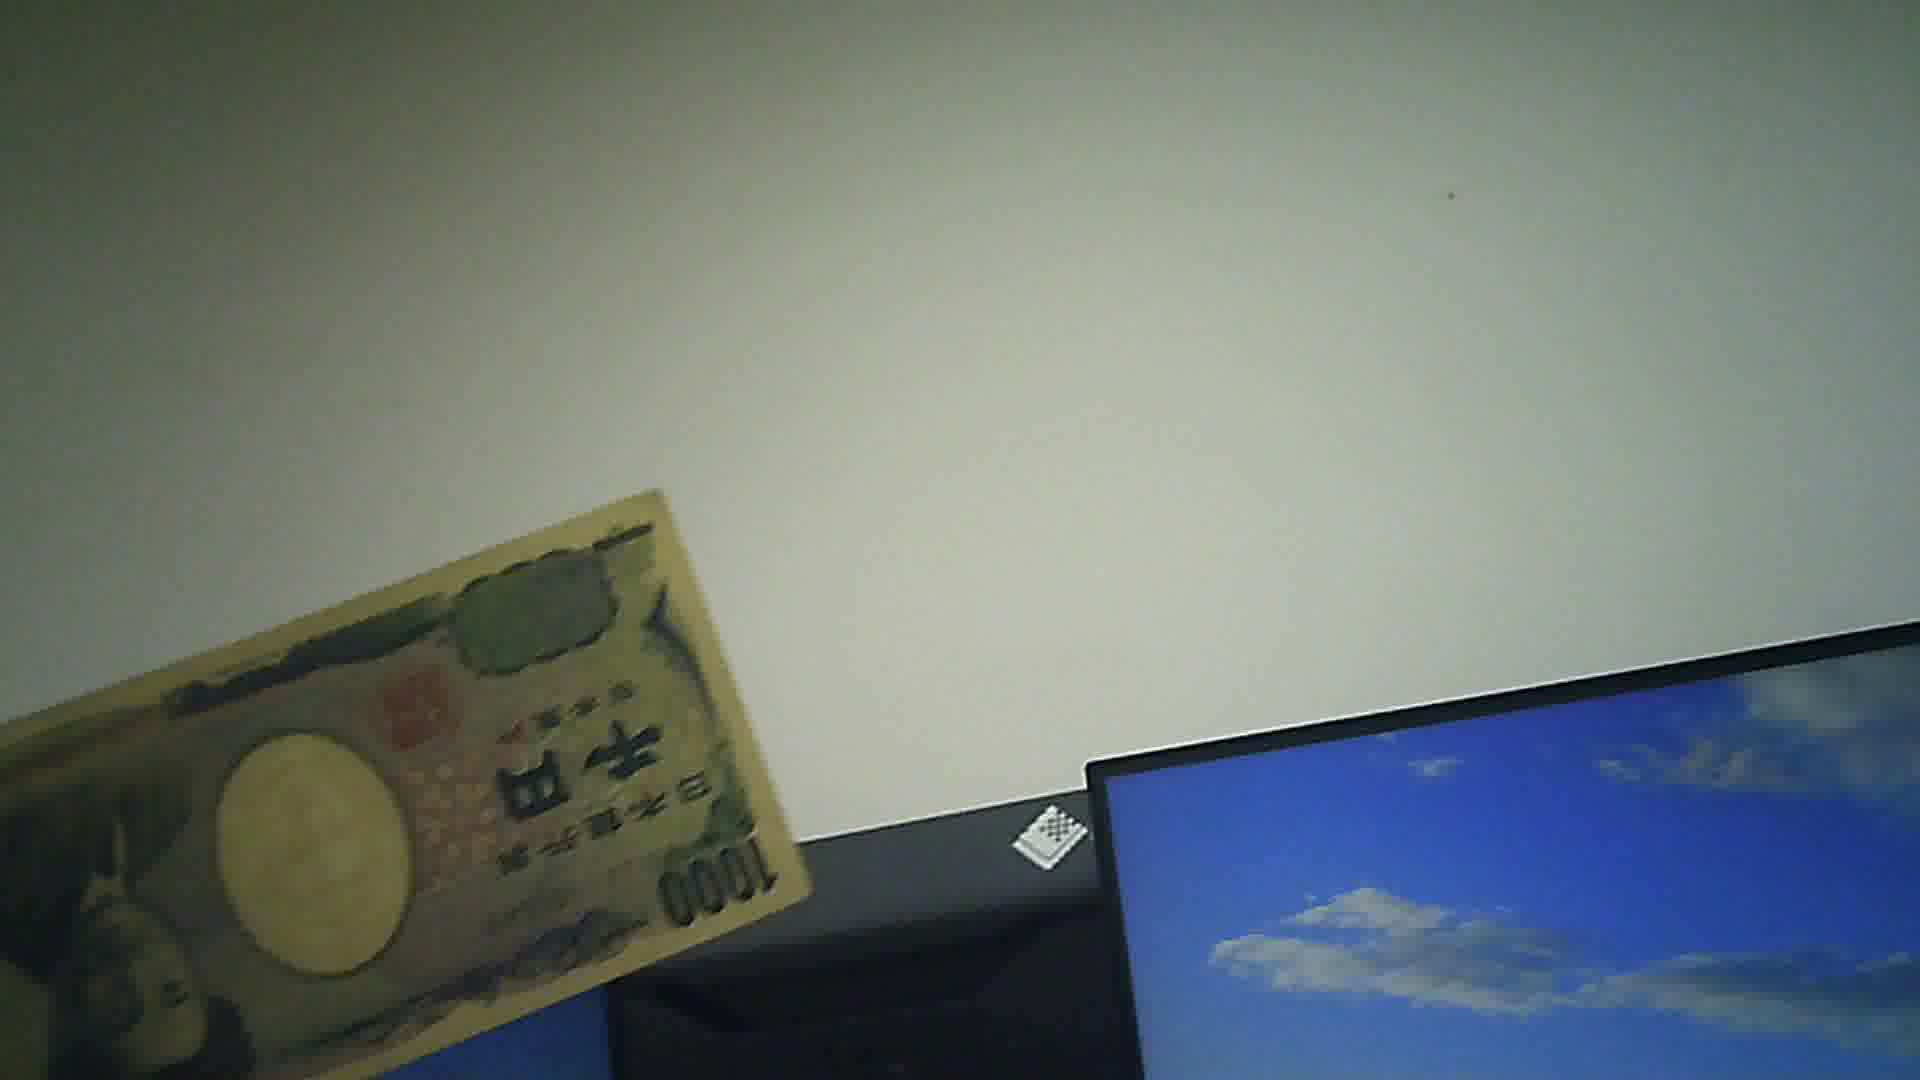1,000 Yen: (4, 469, 823, 1079)
